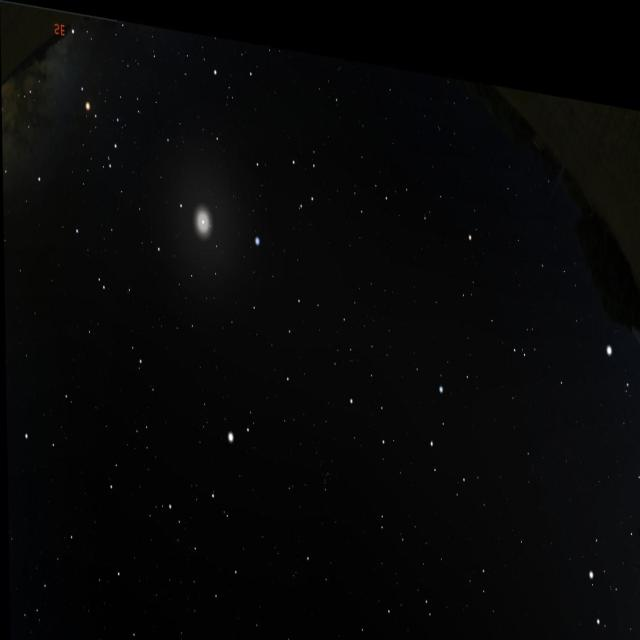bootes: (182, 410, 251, 605)
canis_minor: (607, 316, 636, 384)
gemini: (578, 467, 640, 615)
leo: (336, 340, 471, 498)
moon: (186, 171, 227, 253)
scorpius: (79, 69, 130, 188)
